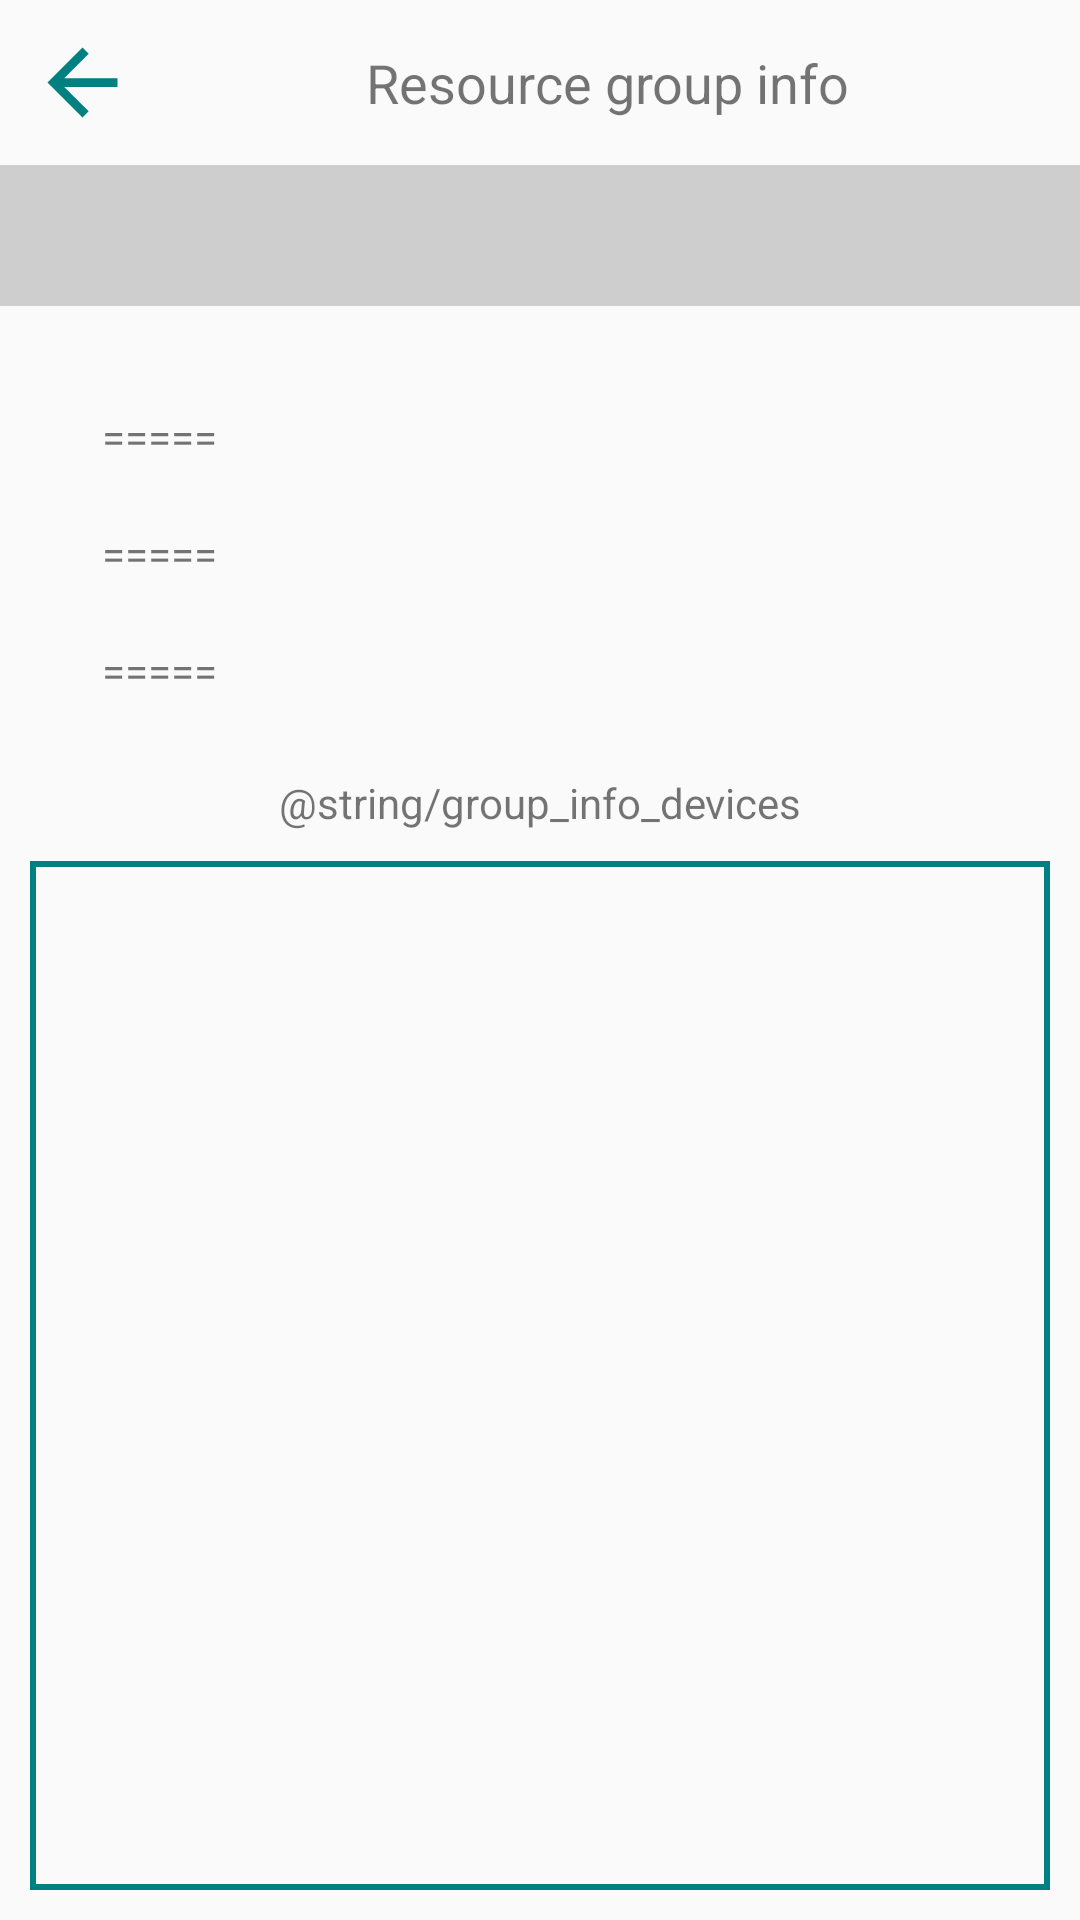

Icons on this 1080px x 1920px Android screen, each with the point to tap as [x,y]:
Back Arrow icon: [82,82]
